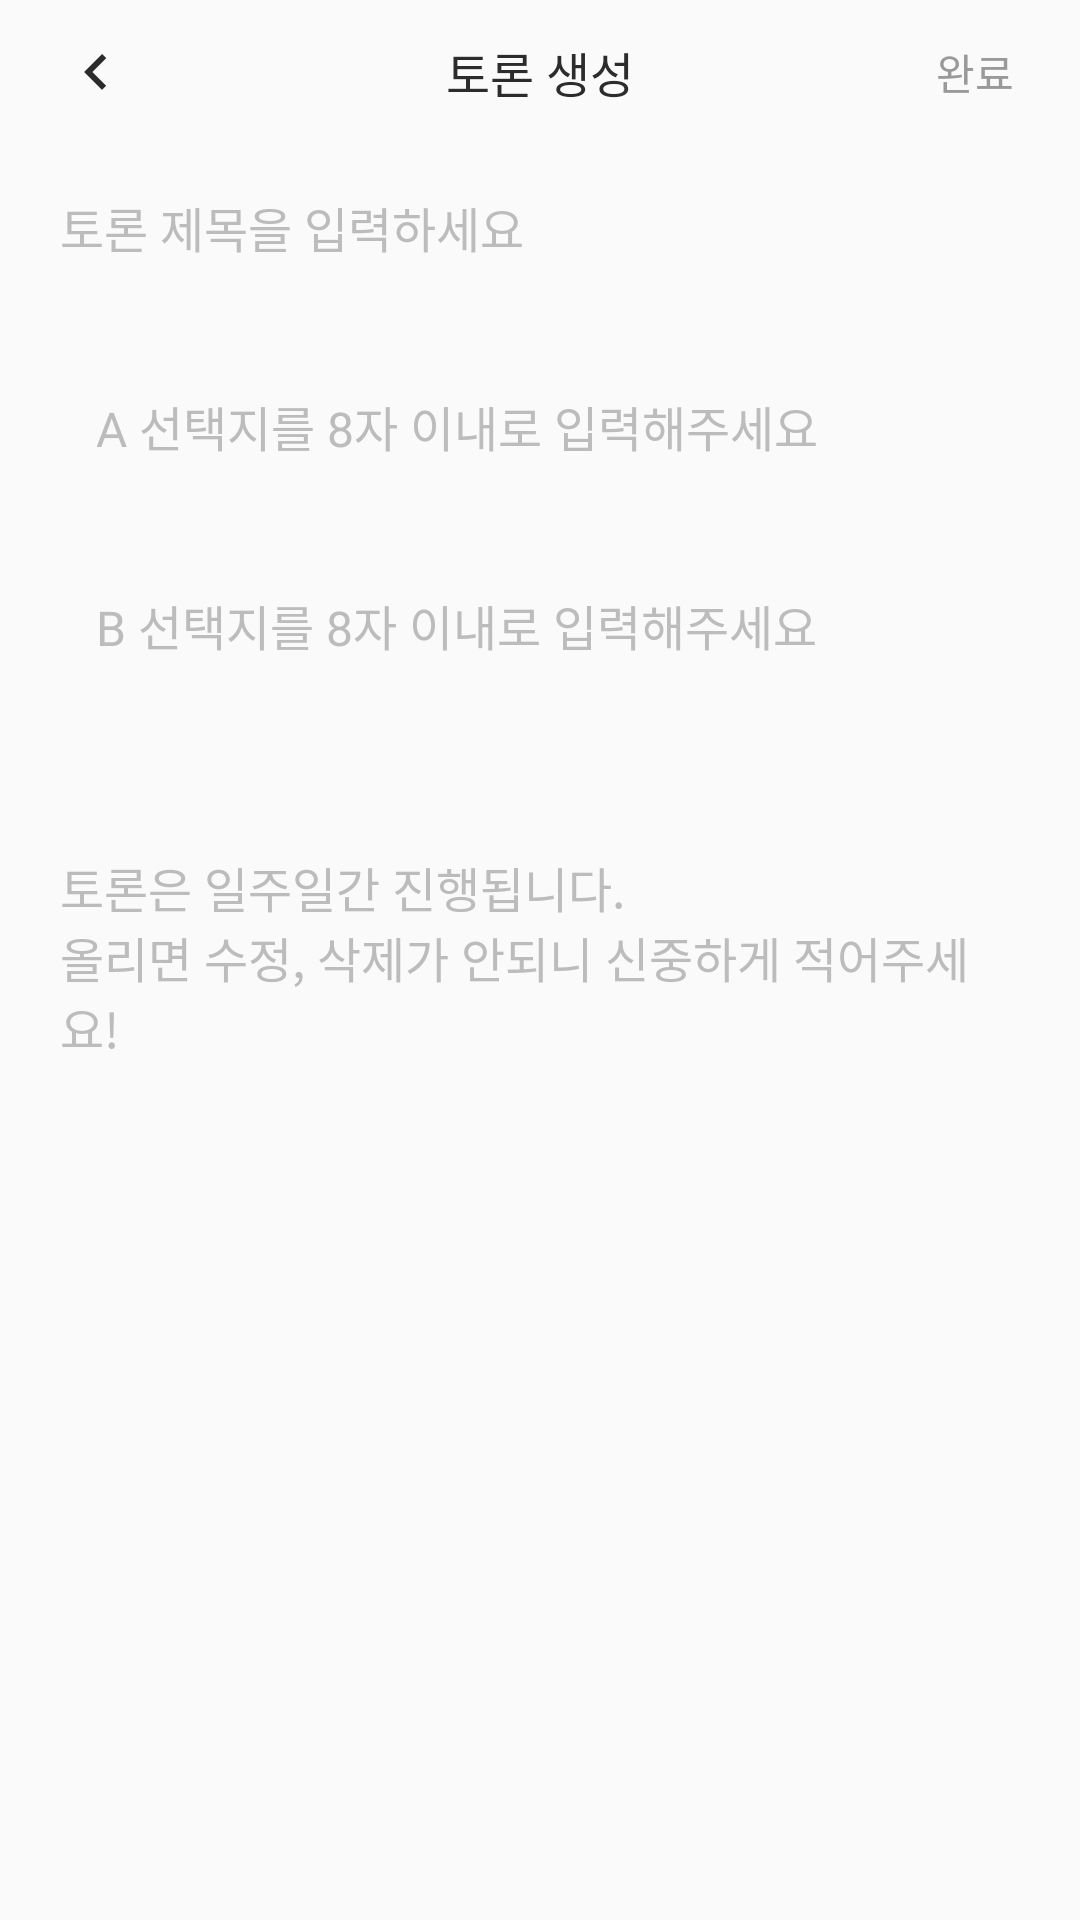

Where to tap for icons on this 1080×1920 app screen, as point (x, y):
back arrow: point (95, 72)
